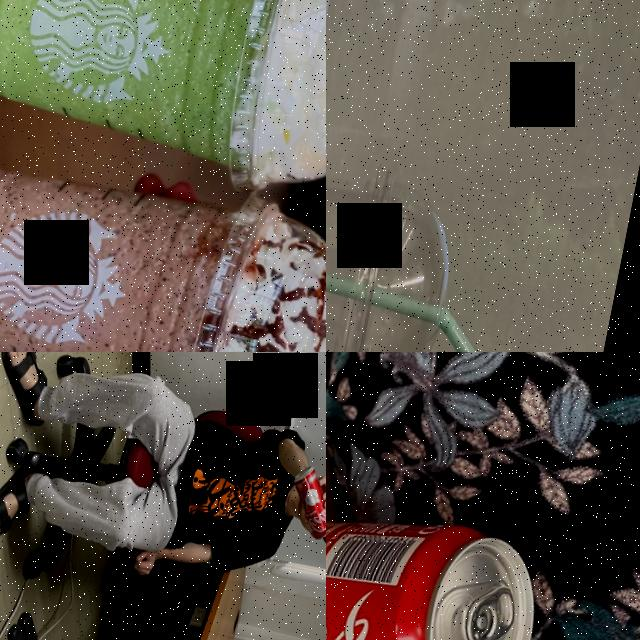can: (326, 470, 550, 640), (281, 462, 326, 542)
cup: (0, 129, 326, 352), (0, 0, 326, 216), (326, 113, 470, 352)
